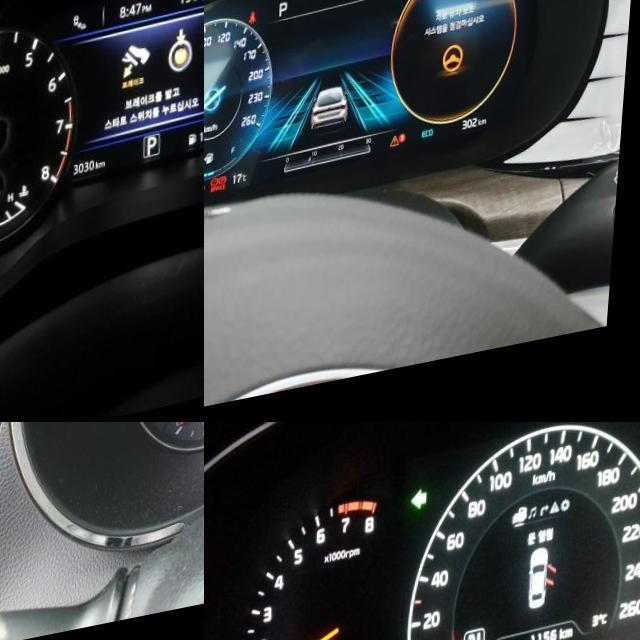Central Warning lamp: (396, 151, 406, 165)
